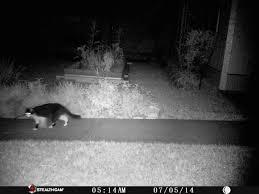house cat: (23, 92, 85, 136)
